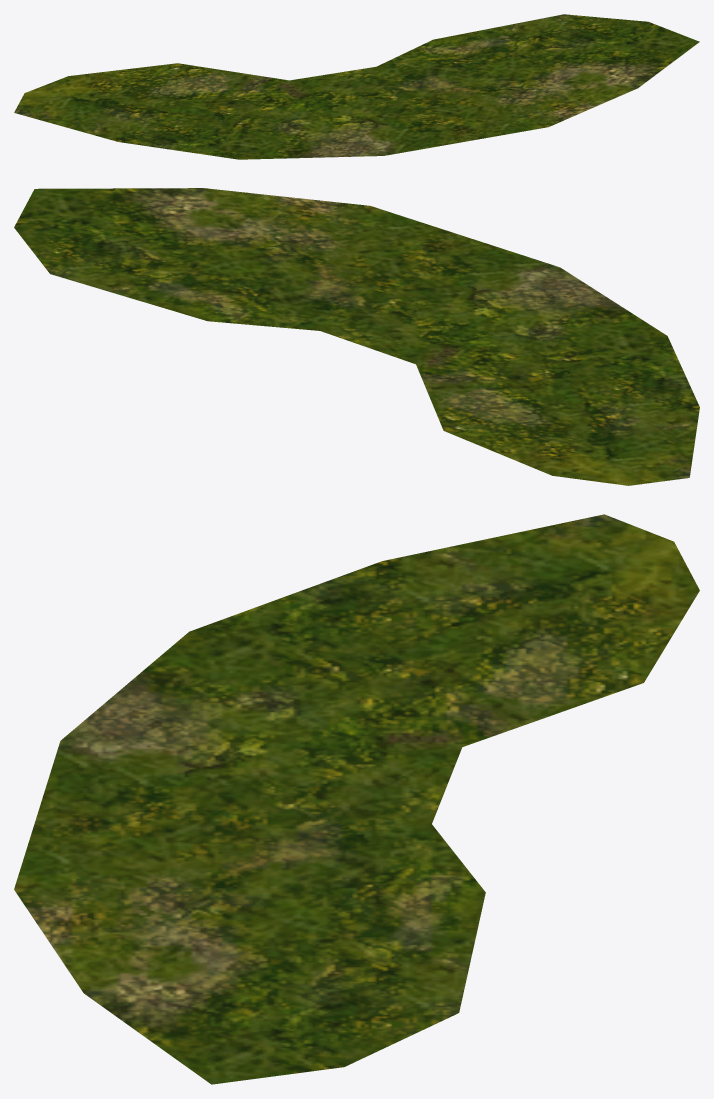
Rendered from OVERHILL_A_01_LINE313.fbx.
3 views of the same model, one above another, from view 1: azimuth 30°, elevation 25°; view 2: azimuth 150°, elevation 25°; view 3: azimuth 270°, elevation 25° (orthographic). The views are drawn at different scales.
Visible parts, largest first — view 1: OVERHILL_A_01_LINE313; view 2: OVERHILL_A_01_LINE313; view 3: OVERHILL_A_01_LINE313.
Boxes of the visible parts, x1=… form: OVERHILL_A_01_LINE313: x1=14, y1=14, x2=699, y2=159; OVERHILL_A_01_LINE313: x1=14, y1=188, x2=699, y2=485; OVERHILL_A_01_LINE313: x1=14, y1=514, x2=699, y2=1084.
Size of the model in its own units: 42193 by 0.00646 by 21448.
Materials: 1 (1 with a texture image).
